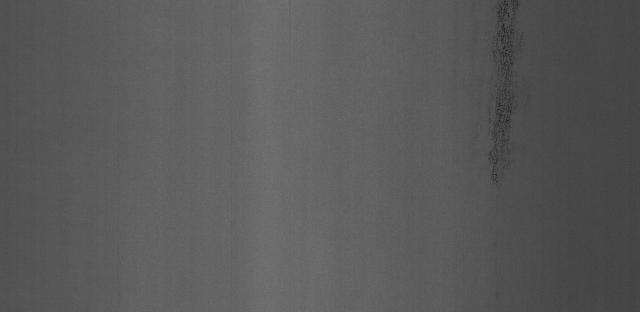inclusion: (471, 0, 553, 202)
